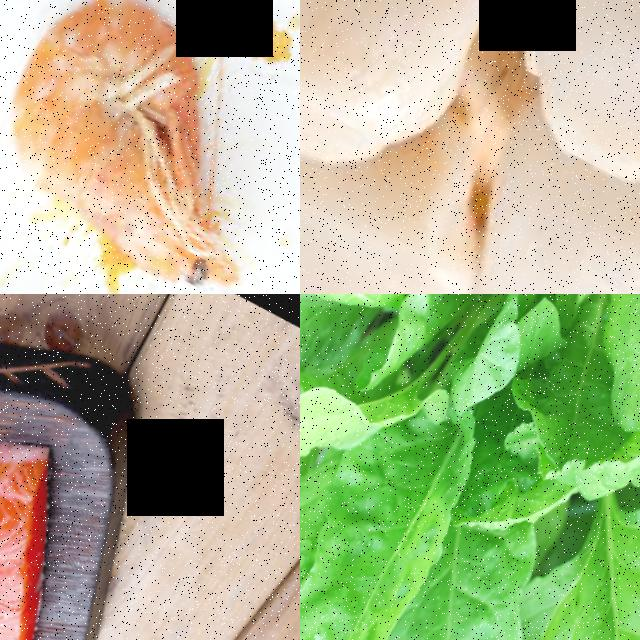salmon: (0, 411, 101, 640)
sea scallops: (300, 0, 531, 220), (466, 0, 640, 235), (300, 140, 513, 294), (448, 128, 640, 294)
shrimp: (0, 0, 300, 294)
spinach: (300, 442, 467, 640), (482, 449, 640, 640), (358, 508, 585, 640)
